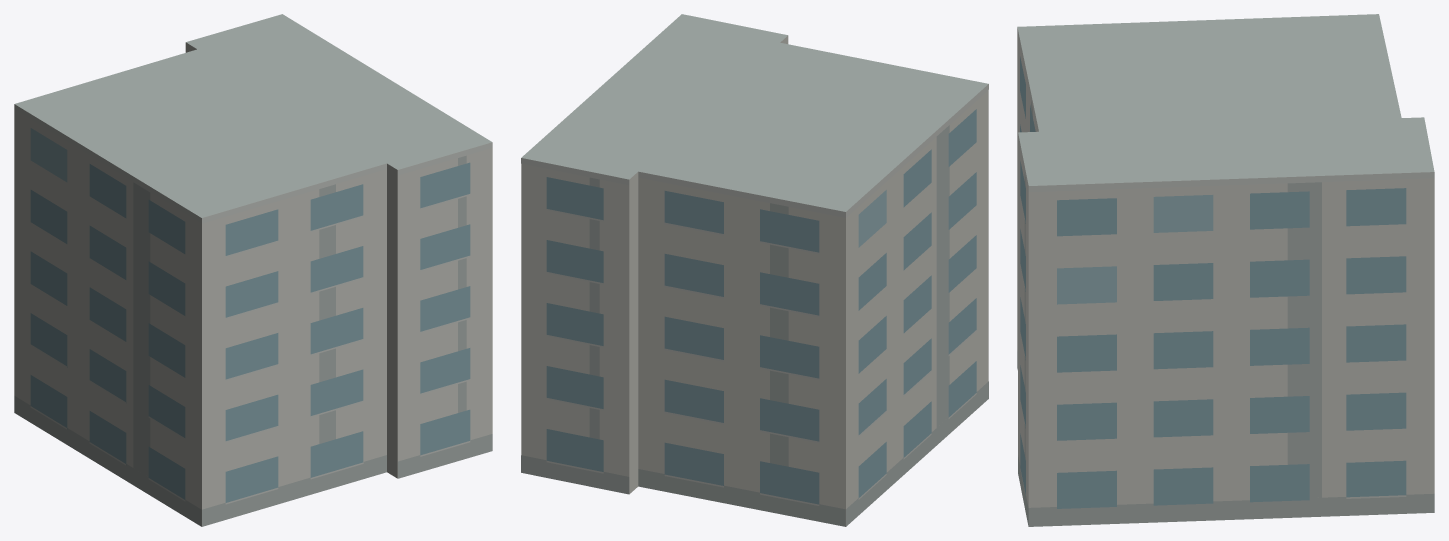
Rendered from survey-upis-32962966.glb.
The picture shows the model from 3 angles, left to right: view 1: azimuth 30°, elevation 25°; view 2: azimuth 150°, elevation 25°; view 3: azimuth 270°, elevation 25°; orthographic projection. The views are drawn at different scales.
Parts seen in each view (by area): view 1: survey-upis-32962966.tmp; view 2: survey-upis-32962966.tmp; view 3: survey-upis-32962966.tmp.
Part boxes in pixels (x1,y1,x2,y2): survey-upis-32962966.tmp: [14, 14, 492, 526]; survey-upis-32962966.tmp: [521, 14, 988, 526]; survey-upis-32962966.tmp: [1017, 14, 1434, 526].
Bounding box in the file's own units: 14.2 × 13.1 × 14.55.
